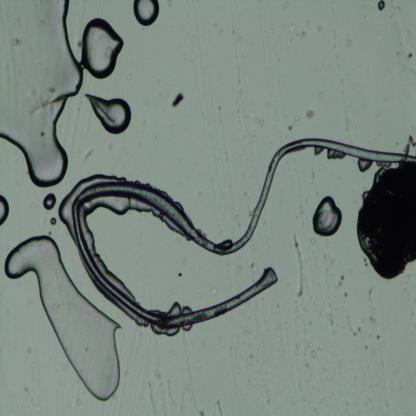Air bubble: (5, 234, 122, 400), (0, 1, 84, 187), (81, 17, 125, 79), (84, 90, 134, 135), (312, 194, 344, 238), (82, 197, 150, 216), (57, 185, 78, 245), (132, 0, 162, 28), (0, 195, 13, 231), (41, 190, 58, 210), (167, 297, 182, 318), (326, 148, 346, 163), (356, 160, 374, 172), (48, 214, 58, 226), (377, 1, 386, 12)
Background material: (357, 159, 416, 282), (289, 228, 310, 306), (292, 337, 324, 366), (342, 304, 363, 341), (316, 307, 341, 332), (336, 268, 352, 304), (366, 294, 376, 324), (249, 112, 265, 129), (229, 204, 242, 224), (342, 107, 353, 130), (289, 23, 306, 37), (171, 93, 185, 108), (172, 269, 185, 280), (404, 47, 414, 61), (209, 282, 218, 296), (306, 108, 315, 122), (294, 112, 300, 126), (288, 121, 294, 135), (249, 134, 258, 143), (247, 261, 256, 269), (373, 334, 383, 339)
Microfibre: (72, 138, 416, 330)
